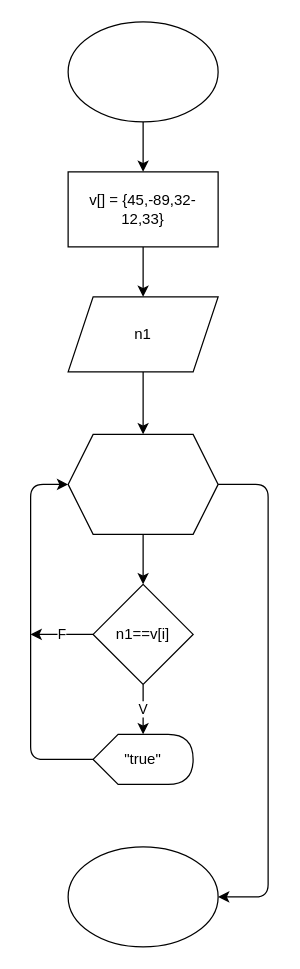
Some shapes in this 300 by 969 pixel diagram are drawn without their labels. Here are the shapes that lost their labels. From the top down, the centre of each, then its label:
point (142, 71): início
point (142, 483): i,0,4,1
